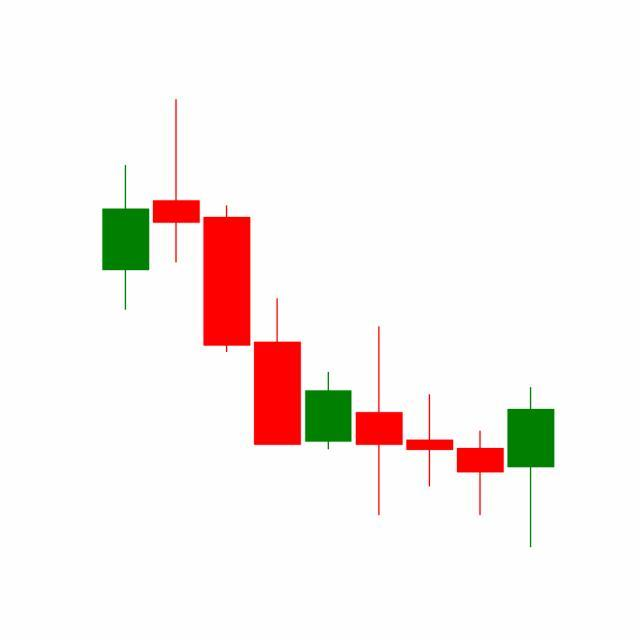Hikkake Pattern: (252, 296, 506, 519)
